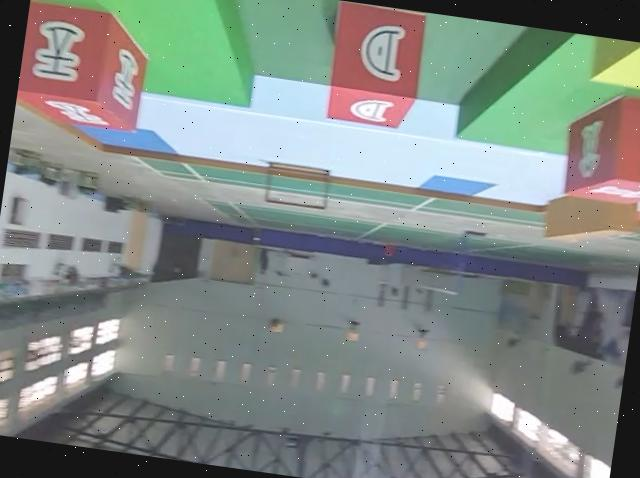R2 Real: (13, 0, 156, 140), (317, 0, 433, 137), (555, 87, 640, 210)
